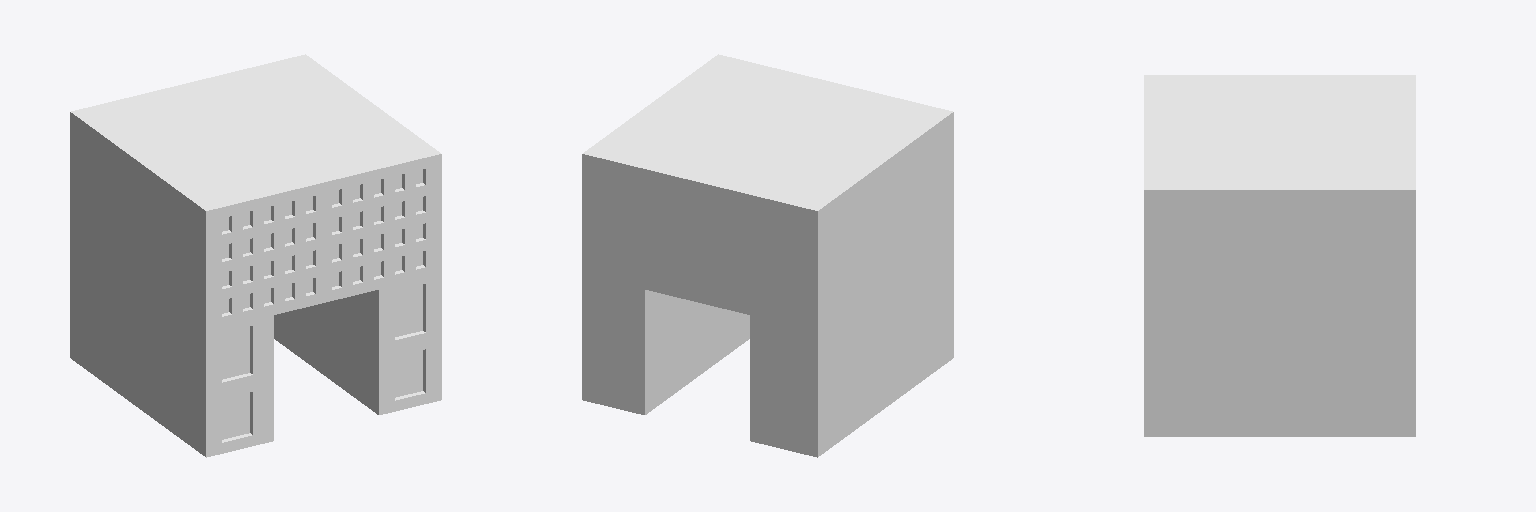
The model's file is bldg-tunnel.obj.
3 renders of one model, left to right at view 1: azimuth 30°, elevation 25°; view 2: azimuth 150°, elevation 25°; view 3: azimuth 270°, elevation 25°, orthographic.
Bounding box in the file's own units: 45 × 45 × 45.